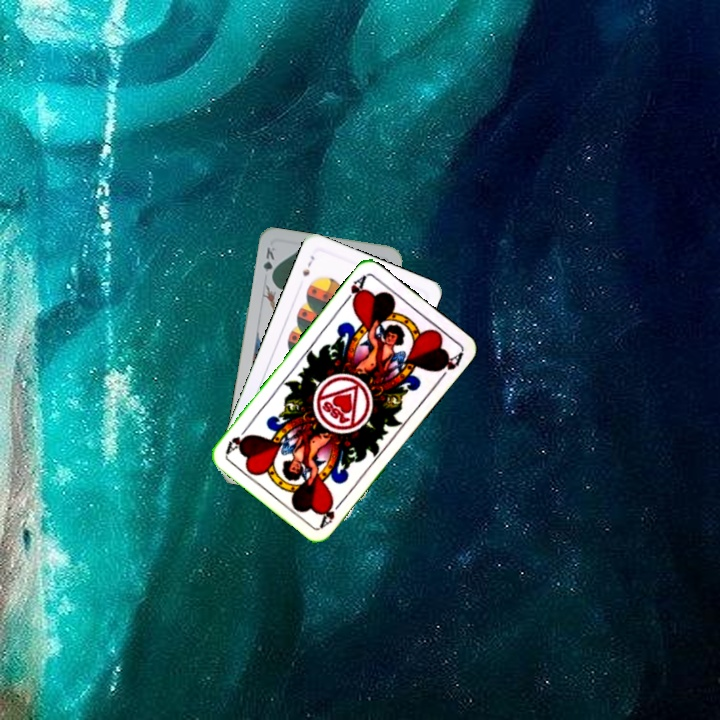GK: (259, 241, 278, 283)
HA: (339, 271, 369, 308), (316, 495, 347, 530)
S7: (298, 251, 317, 279)
